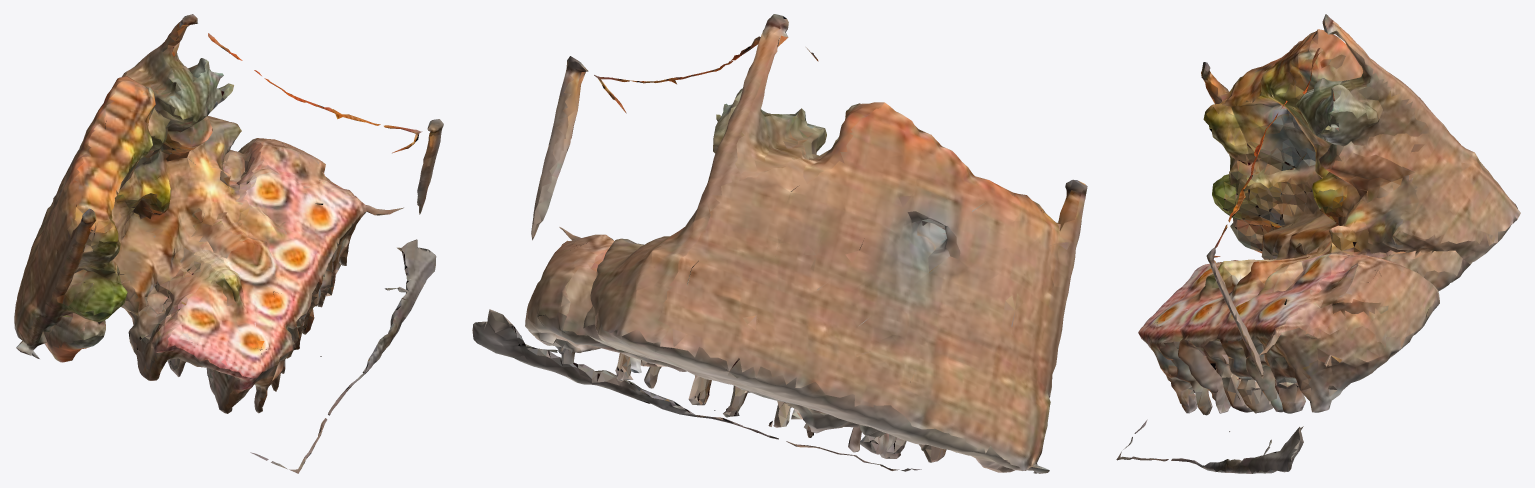
3 views of the same model, side by side, from view 1: azimuth 30°, elevation 25°; view 2: azimuth 150°, elevation 25°; view 3: azimuth 270°, elevation 25° (orthographic). The views are drawn at different scales.
Parts seen in each view (by area): view 1: world; view 2: world; view 3: world.
Boxes of the visible parts, <box> form: world: <box>14,14,443,473</box>; world: <box>472,14,1087,473</box>; world: <box>1116,14,1520,473</box>.
Size of the model in its own units: 1 by 0.9102 by 0.7651.
1 material, 1 textured.
